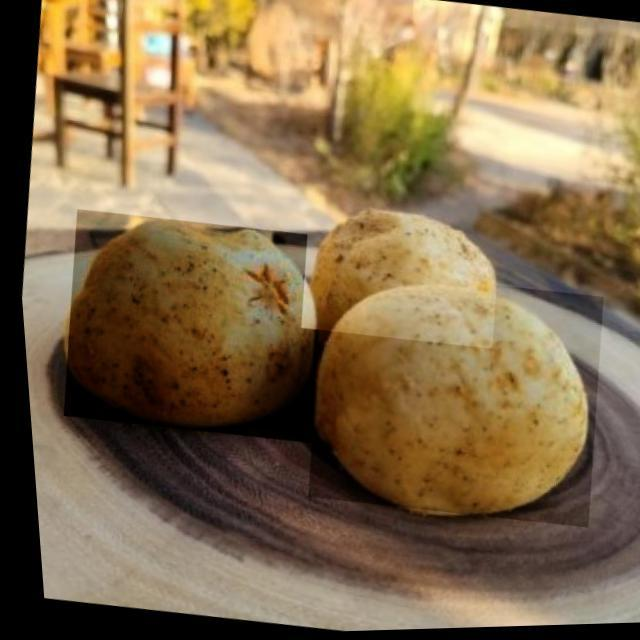Potato: (287, 262, 613, 538), (46, 204, 337, 452), (288, 192, 504, 356)
